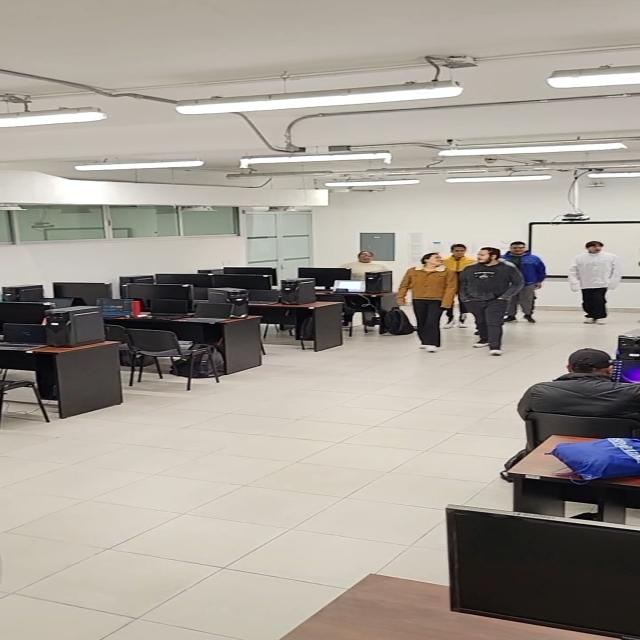Persona: (460, 247, 526, 354), (394, 252, 460, 353), (566, 241, 621, 325), (502, 243, 548, 325), (442, 245, 476, 273)
